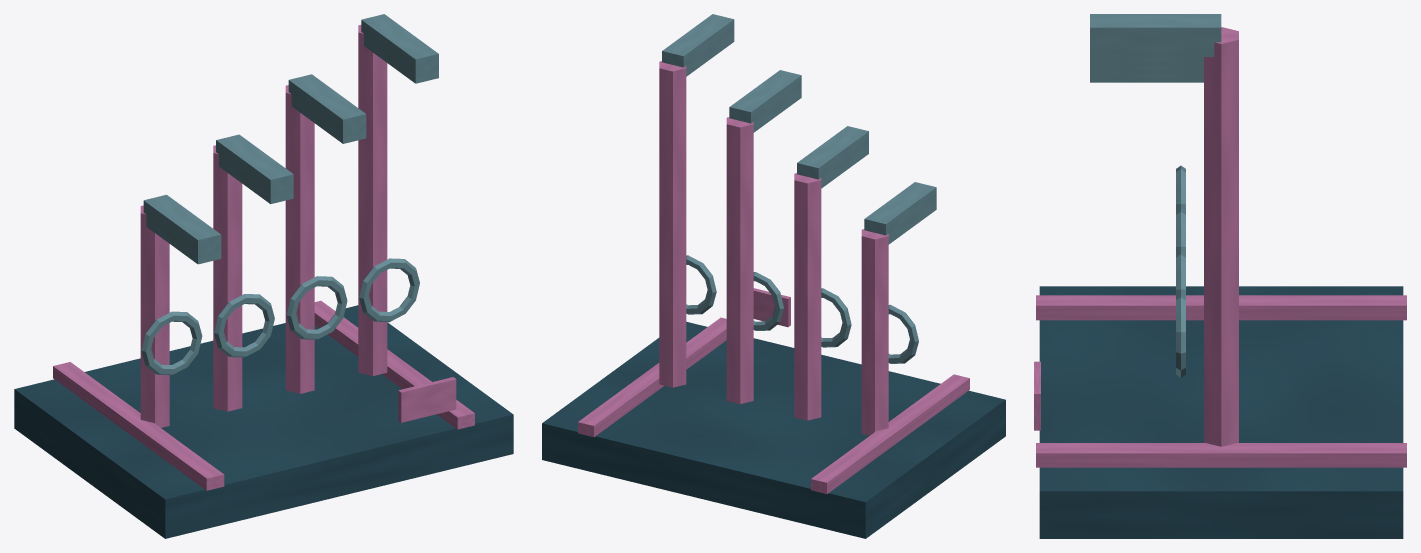
File: atlas100-s064-a03.lod1.glb
3 views of the same model, side by side, from view 1: azimuth 30°, elevation 25°; view 2: azimuth 150°, elevation 25°; view 3: azimuth 270°, elevation 25° (orthographic). The views are drawn at different scales.
Parts seen in each view (by area): view 1: atlas100-s064-a03:part-000, atlas100-s064-a03:part-012, atlas100-s064-a03:part-009, atlas100-s064-a03:part-006, atlas100-s064-a03:part-003, atlas100-s064-a03:part-001, atlas100-s064-a03:part-011, atlas100-s064-a03:part-005, atlas100-s064-a03:part-014, atlas100-s064-a03:part-008, atlas100-s064-a03:part-002, atlas100-s064-a03:part-015 (+4 smaller); view 2: atlas100-s064-a03:part-000, atlas100-s064-a03:part-012, atlas100-s064-a03:part-009, atlas100-s064-a03:part-006, atlas100-s064-a03:part-003, atlas100-s064-a03:part-001, atlas100-s064-a03:part-002, atlas100-s064-a03:part-011, atlas100-s064-a03:part-005, atlas100-s064-a03:part-014, atlas100-s064-a03:part-008, atlas100-s064-a03:part-015 (+4 smaller); view 3: atlas100-s064-a03:part-000, atlas100-s064-a03:part-012, atlas100-s064-a03:part-002, atlas100-s064-a03:part-001, atlas100-s064-a03:part-014, atlas100-s064-a03:part-005, atlas100-s064-a03:part-008, atlas100-s064-a03:part-011, atlas100-s064-a03:part-013, atlas100-s064-a03:part-015.
Boxes of the visible parts, x1=… form: atlas100-s064-a03:part-000: x1=14, y1=305, x2=513, y2=538; atlas100-s064-a03:part-012: x1=358, y1=25, x2=387, y2=376; atlas100-s064-a03:part-009: x1=285, y1=85, x2=314, y2=393; atlas100-s064-a03:part-006: x1=213, y1=145, x2=242, y2=411; atlas100-s064-a03:part-003: x1=140, y1=205, x2=169, y2=427; atlas100-s064-a03:part-001: x1=53, y1=362, x2=224, y2=490; atlas100-s064-a03:part-011: x1=288, y1=74, x2=366, y2=143; atlas100-s064-a03:part-005: x1=143, y1=194, x2=221, y2=264; atlas100-s064-a03:part-014: x1=361, y1=14, x2=438, y2=83; atlas100-s064-a03:part-008: x1=216, y1=134, x2=293, y2=204; atlas100-s064-a03:part-002: x1=314, y1=300, x2=474, y2=429; atlas100-s064-a03:part-015: x1=398, y1=377, x2=456, y2=422; atlas100-s064-a03:part-000: x1=542, y1=321, x2=1005, y2=538; atlas100-s064-a03:part-012: x1=659, y1=61, x2=686, y2=387; atlas100-s064-a03:part-009: x1=726, y1=117, x2=753, y2=403; atlas100-s064-a03:part-006: x1=794, y1=173, x2=821, y2=420; atlas100-s064-a03:part-003: x1=861, y1=229, x2=888, y2=435; atlas100-s064-a03:part-001: x1=811, y1=374, x2=969, y2=493; atlas100-s064-a03:part-002: x1=578, y1=317, x2=726, y2=437; atlas100-s064-a03:part-011: x1=729, y1=70, x2=801, y2=132; atlas100-s064-a03:part-005: x1=864, y1=182, x2=936, y2=244; atlas100-s064-a03:part-014: x1=662, y1=14, x2=734, y2=76; atlas100-s064-a03:part-008: x1=797, y1=126, x2=868, y2=188; atlas100-s064-a03:part-015: x1=753, y1=288, x2=790, y2=327; atlas100-s064-a03:part-000: x1=1039, y1=286, x2=1403, y2=538; atlas100-s064-a03:part-012: x1=1204, y1=27, x2=1238, y2=446; atlas100-s064-a03:part-002: x1=1036, y1=443, x2=1406, y2=467; atlas100-s064-a03:part-001: x1=1036, y1=295, x2=1406, y2=320; atlas100-s064-a03:part-014: x1=1090, y1=14, x2=1221, y2=56; atlas100-s064-a03:part-005: x1=1090, y1=74, x2=1203, y2=82; atlas100-s064-a03:part-008: x1=1090, y1=65, x2=1203, y2=73; atlas100-s064-a03:part-011: x1=1090, y1=57, x2=1203, y2=65; atlas100-s064-a03:part-013: x1=1176, y1=293, x2=1185, y2=377; atlas100-s064-a03:part-015: x1=1034, y1=361, x2=1040, y2=430.
Bounding box in the file's own units: 2.4 × 2.62 × 1.85.
Materials: 3 (3 with a texture image).
